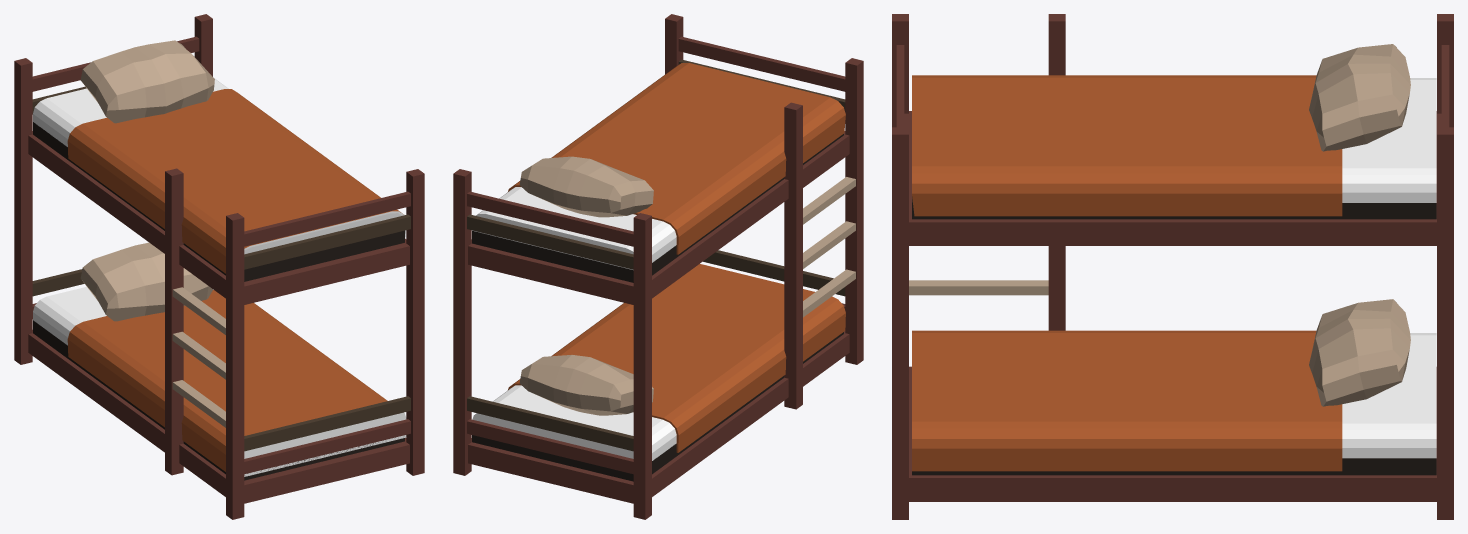
Rendered from Prop_Bed_01.fbx.
3 renders of one model, left to right at view 1: azimuth 30°, elevation 25°; view 2: azimuth 150°, elevation 25°; view 3: azimuth 270°, elevation 25°, orthographic. The views are drawn at different scales.
Parts seen in each view (by area): view 1: Prop_Bed_01; view 2: Prop_Bed_01; view 3: Prop_Bed_01.
Part boxes in pixels (left/top/right/bottom): Prop_Bed_01: left=14, top=14, right=424, bottom=519; Prop_Bed_01: left=453, top=14, right=863, bottom=519; Prop_Bed_01: left=892, top=14, right=1453, bottom=519.
Bounding box in the file's own units: 114 × 175 × 225.
